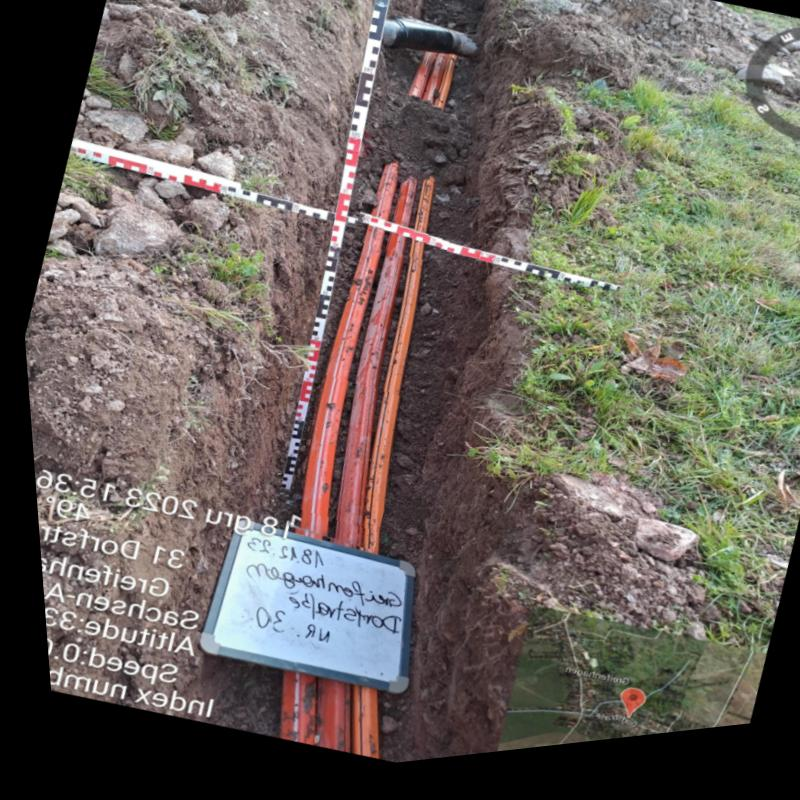Orang-Speednetrohrchen: (287, 63, 456, 559)
